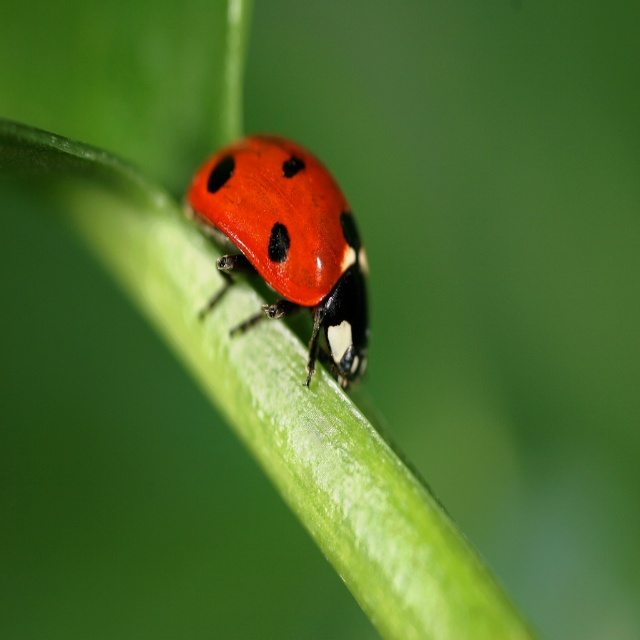Ladybug: (184, 130, 373, 384)
